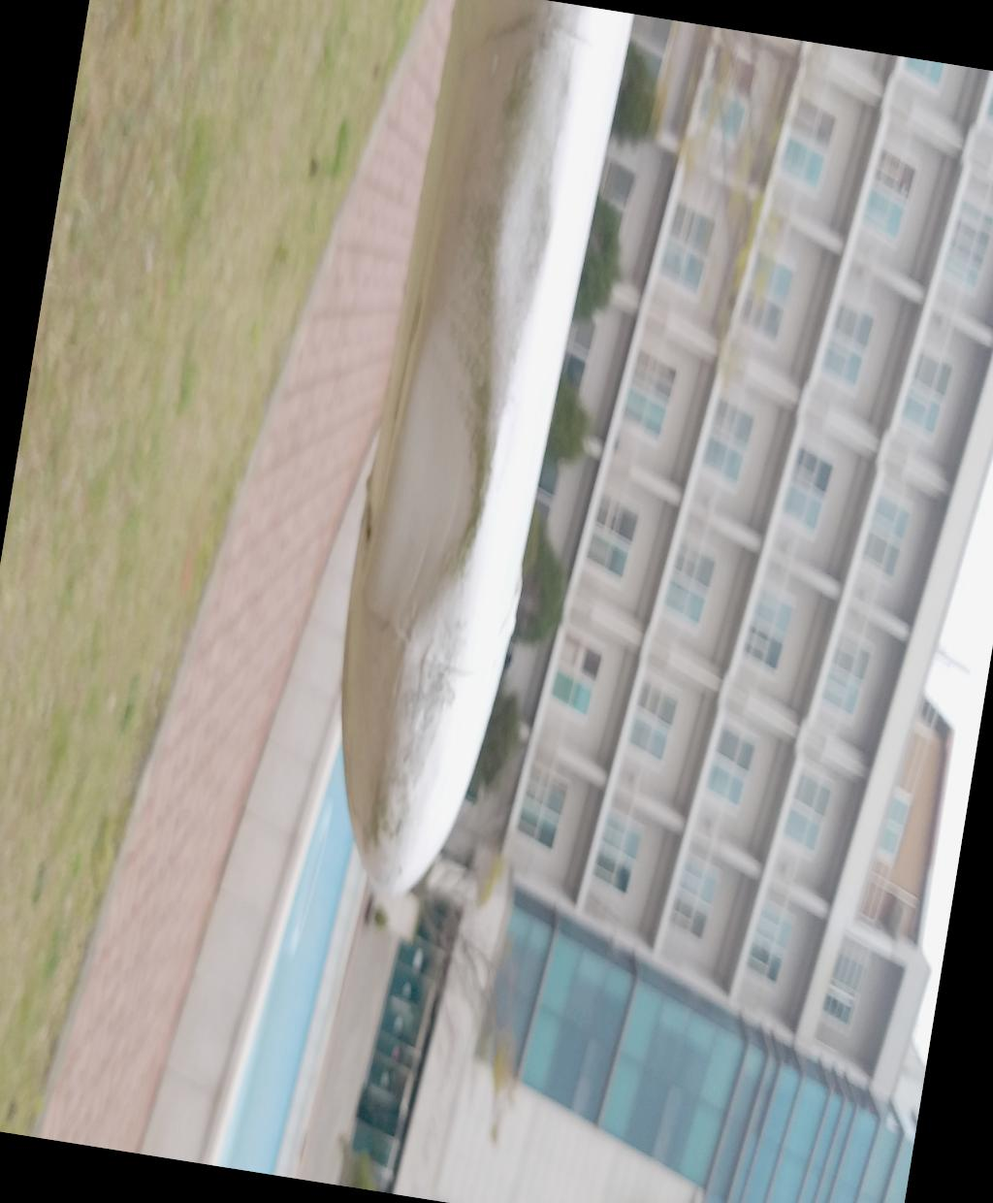dent: (828, 47, 993, 126)
